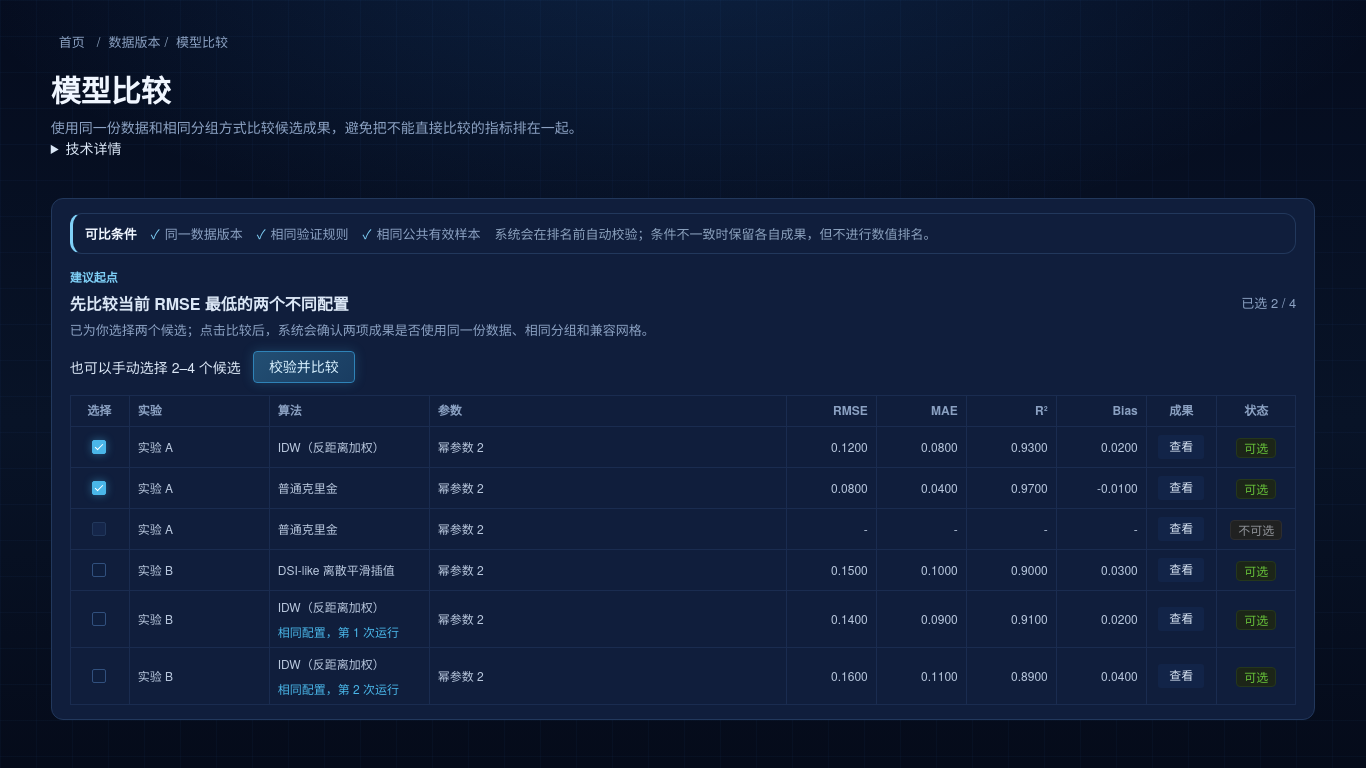
Test: CandidateComparisonView › 比较完成后先展示推荐结论、指标差异和主要参数差异
The image size is (1366, 768).
Click the button with test id "compare-btn" at (304, 366), box [253,350,355,382]
(page scrolled)
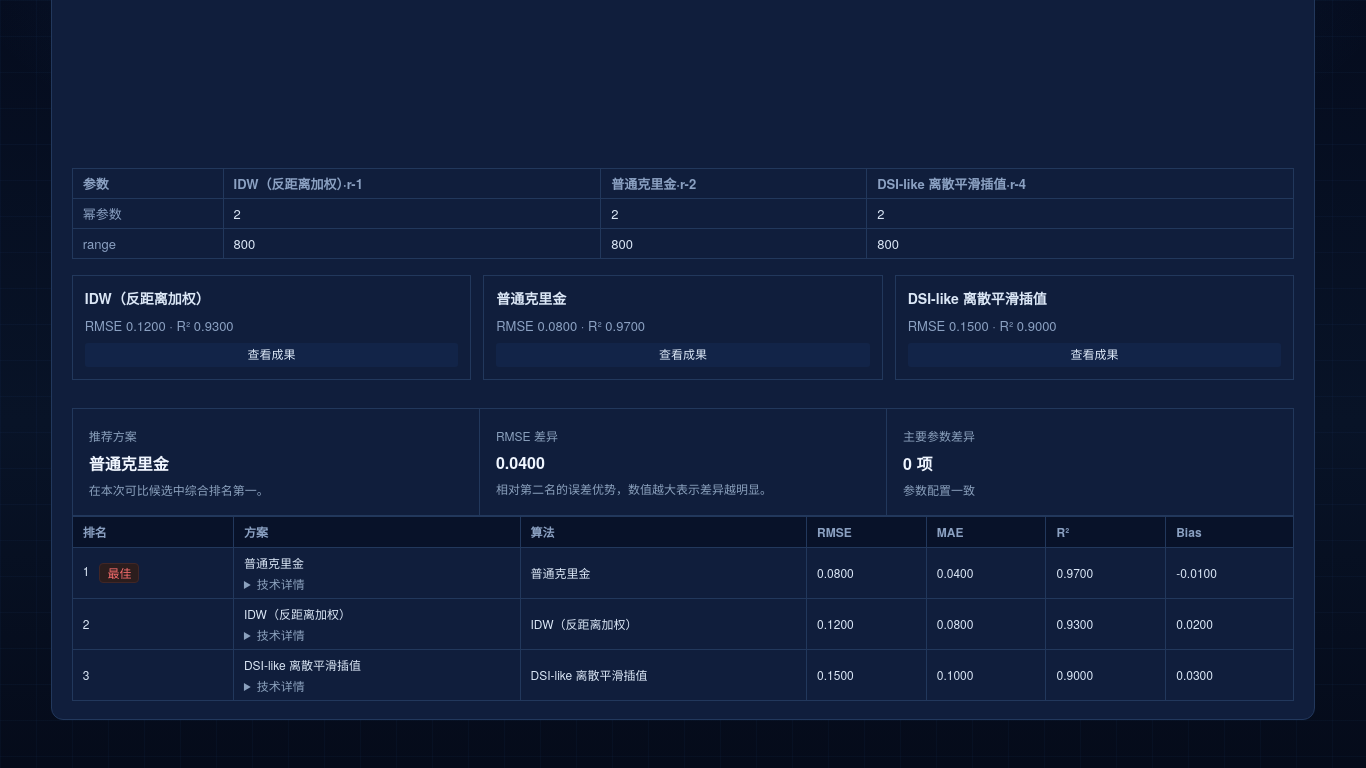
Now the element with test id "comparison-summary" shows "普通克里金", box [89,452,169,475]
Now the element with test id "comparison-summary" shows "RMSE", box [496,427,558,444]
Now the element with test id "comparison-summary" shows "主要参数差异", box [903,427,975,444]
